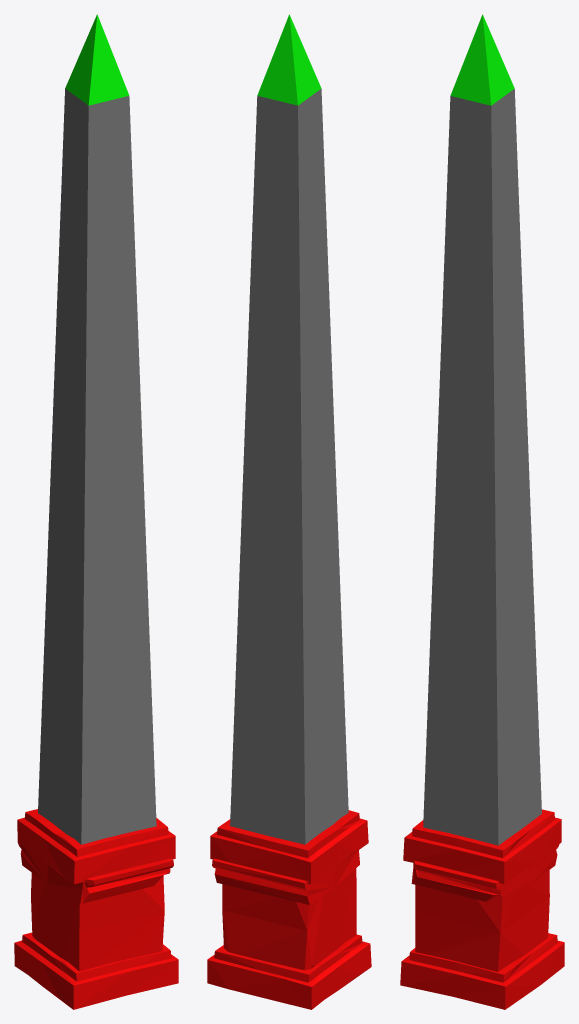
The model's file is PillarObelisk01.fbx.
The picture shows the model from 3 angles, left to right: view 1: azimuth 30°, elevation 25°; view 2: azimuth 150°, elevation 25°; view 3: azimuth 330°, elevation 25°; orthographic projection.
Parts seen in each view (by area): view 1: PillarObelisk01; view 2: PillarObelisk01; view 3: PillarObelisk01.
Boxes of the visible parts, bbox=[...] form: PillarObelisk01: bbox=[14, 14, 178, 1009]; PillarObelisk01: bbox=[207, 14, 371, 1009]; PillarObelisk01: bbox=[400, 14, 564, 1009].
Size of the model in its own units: 140 by 1212 by 145.
